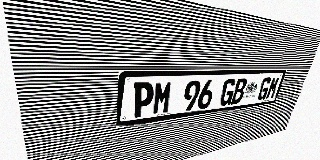6: (197, 79, 216, 109)
9: (182, 80, 202, 111)
B: (230, 78, 248, 105)
G: (219, 78, 237, 106), (256, 77, 272, 101)
M: (152, 81, 174, 115), (265, 77, 280, 100)
P: (132, 82, 155, 118)
